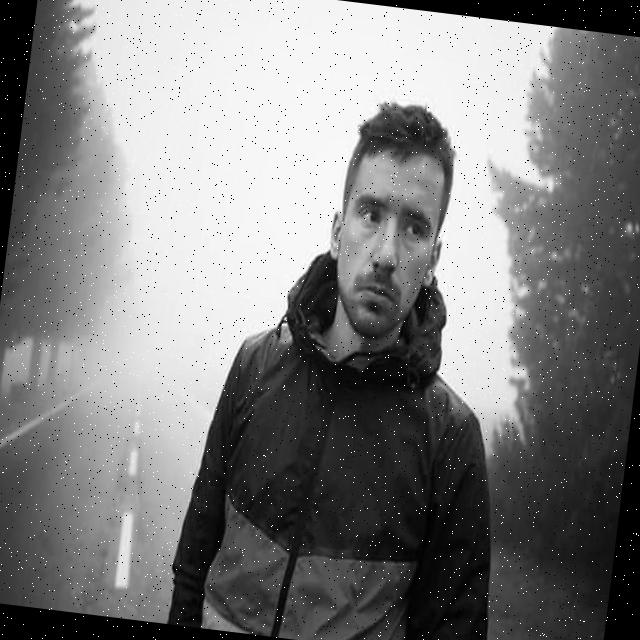Sadness: (336, 146, 440, 338)
